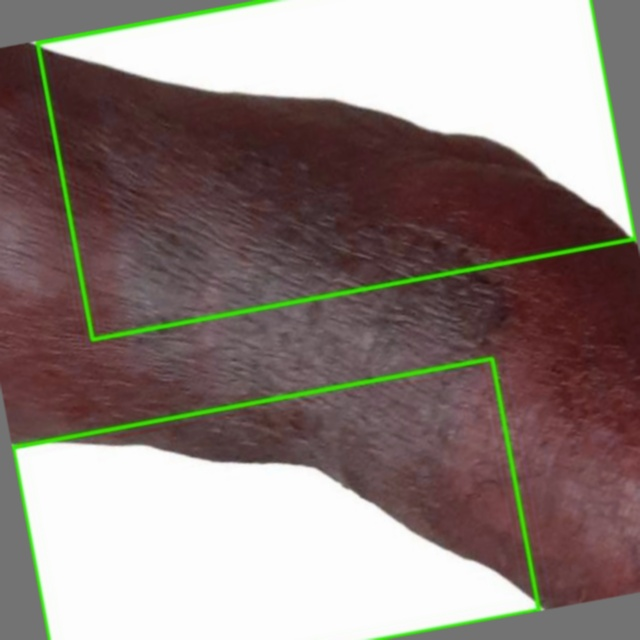Eczema: (37, 0, 635, 338), (12, 358, 538, 639)
